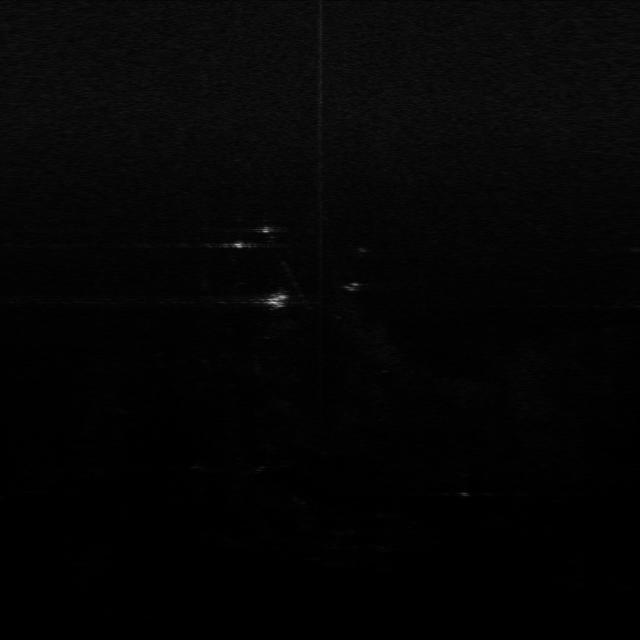rov: (261, 290, 293, 313)
